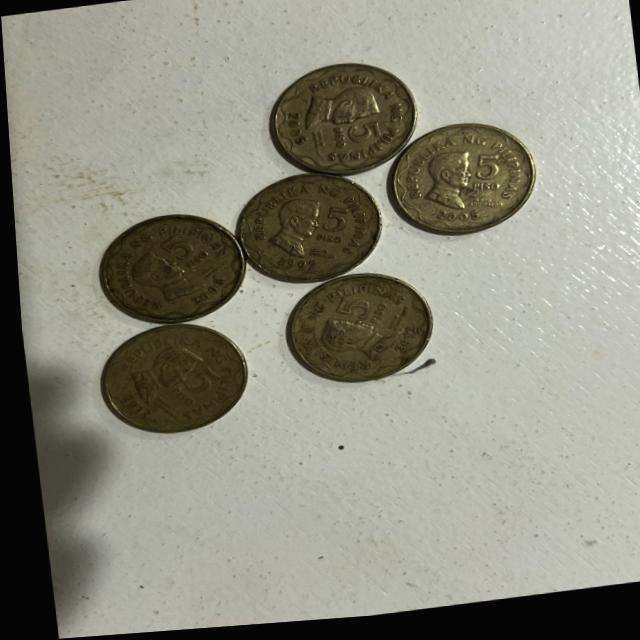5_Old_Front: (321, 289, 394, 337), (151, 229, 216, 281), (308, 204, 357, 256), (323, 124, 385, 161), (456, 155, 504, 200), (171, 370, 219, 409)
